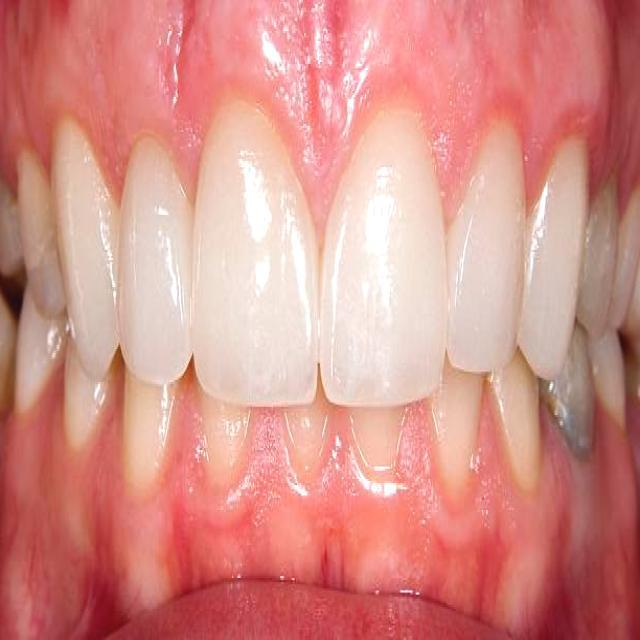redness: (81, 128, 152, 210), (476, 78, 540, 152), (554, 88, 606, 169)
